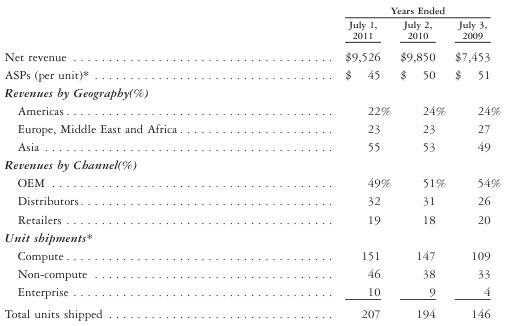table: (3, 4, 500, 320)
table column: (3, 4, 263, 320), (263, 4, 394, 320), (394, 4, 449, 320), (449, 4, 500, 320)
table column header: (3, 4, 500, 44)
table projected row header: (3, 83, 500, 101), (3, 155, 500, 173), (3, 227, 500, 245)
table row: (3, 17, 500, 44), (3, 44, 500, 64), (3, 282, 500, 302), (3, 64, 500, 83), (3, 263, 500, 282), (3, 83, 500, 101), (3, 101, 500, 119), (3, 119, 500, 137), (3, 137, 500, 155), (3, 155, 500, 173), (3, 173, 500, 191), (3, 191, 500, 209), (3, 209, 500, 227), (3, 227, 500, 245), (3, 245, 500, 263), (3, 302, 500, 320), (3, 4, 500, 17)
table spanning cell: (263, 4, 500, 17)
